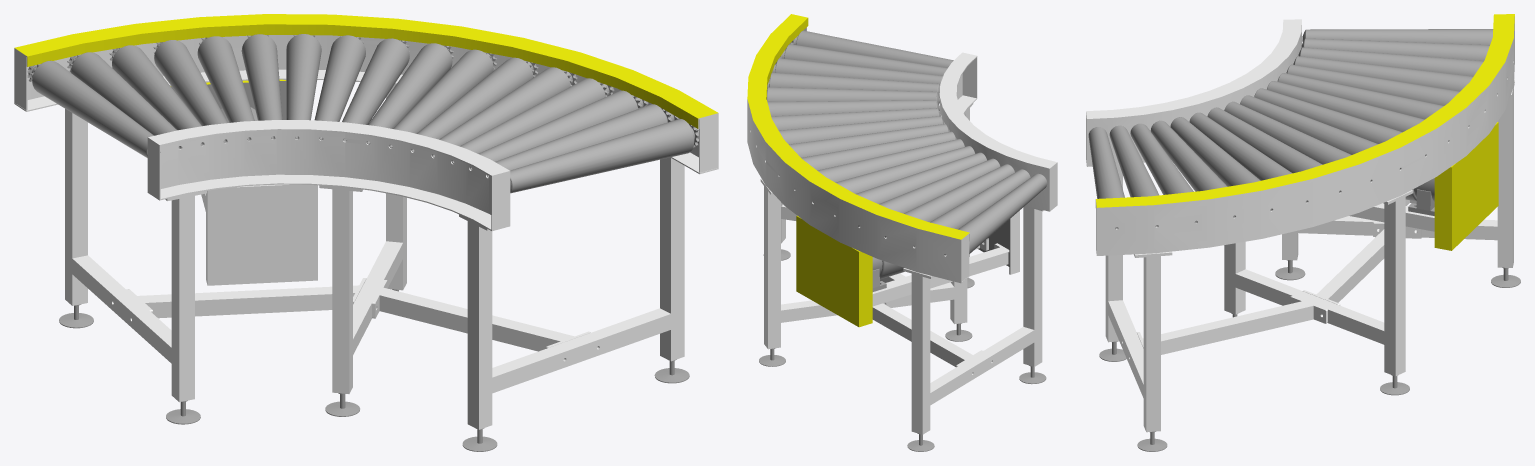
Rendered from BIFA_BFZY01_Curve90_R600_W500_H700.fbx.
3 renders of one model, left to right at view 1: azimuth 30°, elevation 25°; view 2: azimuth 150°, elevation 25°; view 3: azimuth 270°, elevation 25°, orthographic. The views are drawn at different scales.
Visible parts, largest first — view 1: BFZY01-600-01_1, BFZY01-600-500-08_19, BFZY01-500-700-FC-04_28, BFZY01-500-700-FC-04_24, BFZY01-W500-07_31, BFZY01-500-700-FC-04_20, BFZY01-500-02_18, BFZY01-600-500-03_23, BFZY01-500-02_2, BFZY01-600-500-03_27, BFZY01-500-02_17, BFZY01-500-02_16 (+13 smaller); view 2: BFZY01-600-500-08_19, BFZY01-W500-07_31, BFZY01-500-700-FC-04_24, BFZY01-600-01_1, BFZY01-500-700-FC-04_20, BFZY01-500-02_2, BFZY01-500-02_14, BFZY01-500-02_15, BFZY01-500-02_16, BFZY01-500-02_13, BFZY01-500-02_17, BFZY01-500-02_18 (+12 smaller); view 3: BFZY01-600-500-08_19, BFZY01-500-700-FC-04_20, BFZY01-W500-07_31, BFZY01-500-700-FC-04_28, BFZY01-600-01_1, BFZY01-500-700-FC-04_24, BFZY01-600-500-03_23, BFZY01-500-02_2, BFZY01-500-02_3, BFZY01-500-02_4, BFZY01-500-02_5, BFZY01-500-02_6 (+13 smaller).
Part boxes in pixels (x1=…): BFZY01-600-01_1: x1=147, y1=120, x2=510, y2=231; BFZY01-600-500-08_19: x1=14, y1=14, x2=718, y2=174; BFZY01-500-700-FC-04_28: x1=459, y1=157, x2=684, y2=429; BFZY01-500-700-FC-04_24: x1=65, y1=109, x2=206, y2=402; BFZY01-W500-07_31: x1=170, y1=79, x2=317, y2=285; BFZY01-500-700-FC-04_20: x1=319, y1=84, x2=406, y2=393; BFZY01-500-02_18: x1=510, y1=119, x2=698, y2=193; BFZY01-600-500-03_23: x1=372, y1=280, x2=590, y2=351; BFZY01-500-02_2: x1=27, y1=60, x2=153, y2=157; BFZY01-600-500-03_27: x1=126, y1=278, x2=366, y2=318; BFZY01-500-02_17: x1=487, y1=104, x2=679, y2=177; BFZY01-500-02_16: x1=470, y1=90, x2=648, y2=170; BFZY01-600-500-08_19: x1=747, y1=14, x2=969, y2=283; BFZY01-W500-07_31: x1=796, y1=210, x2=1019, y2=327; BFZY01-500-700-FC-04_24: x1=903, y1=205, x2=1043, y2=434; BFZY01-600-01_1: x1=939, y1=52, x2=1057, y2=211; BFZY01-500-700-FC-04_20: x1=760, y1=179, x2=967, y2=349; BFZY01-500-02_2: x1=944, y1=173, x2=1047, y2=255; BFZY01-500-02_14: x1=766, y1=87, x2=939, y2=104; BFZY01-500-02_15: x1=767, y1=72, x2=939, y2=97; BFZY01-500-02_16: x1=772, y1=58, x2=943, y2=84; BFZY01-500-02_13: x1=767, y1=100, x2=939, y2=116; BFZY01-500-02_17: x1=775, y1=44, x2=947, y2=75; BFZY01-500-02_18: x1=786, y1=30, x2=953, y2=67; BFZY01-600-500-08_19: x1=1095, y1=14, x2=1514, y2=255; BFZY01-500-700-FC-04_20: x1=1224, y1=190, x2=1413, y2=376; BFZY01-W500-07_31: x1=1349, y1=122, x2=1498, y2=250; BFZY01-500-700-FC-04_28: x1=1105, y1=165, x2=1172, y2=432; BFZY01-600-01_1: x1=1086, y1=19, x2=1301, y2=166; BFZY01-500-700-FC-04_24: x1=1282, y1=79, x2=1514, y2=267; BFZY01-600-500-03_23: x1=1137, y1=296, x2=1327, y2=354; BFZY01-500-02_2: x1=1302, y1=29, x2=1493, y2=44; BFZY01-500-02_3: x1=1301, y1=38, x2=1489, y2=60; BFZY01-500-02_4: x1=1298, y1=47, x2=1483, y2=76; BFZY01-500-02_5: x1=1293, y1=56, x2=1472, y2=91; BFZY01-500-02_6: x1=1286, y1=64, x2=1459, y2=105.
Bounding box in the file's own units: 1221 × 715 × 1155.
